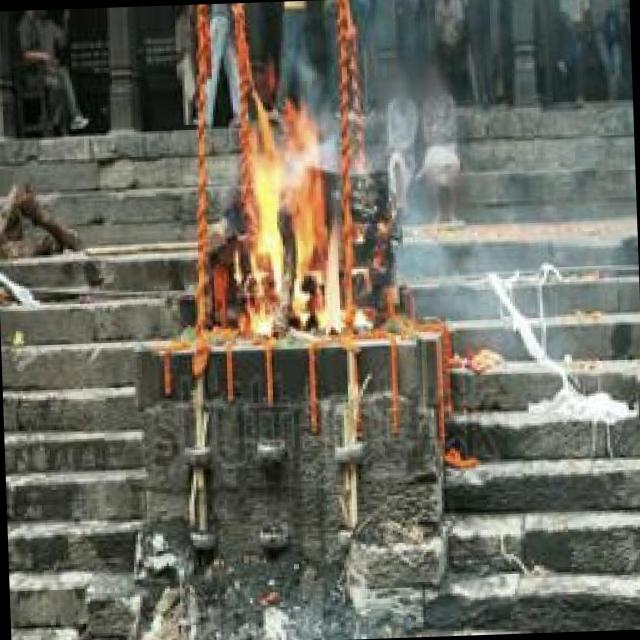Fire: (234, 108, 346, 340)
